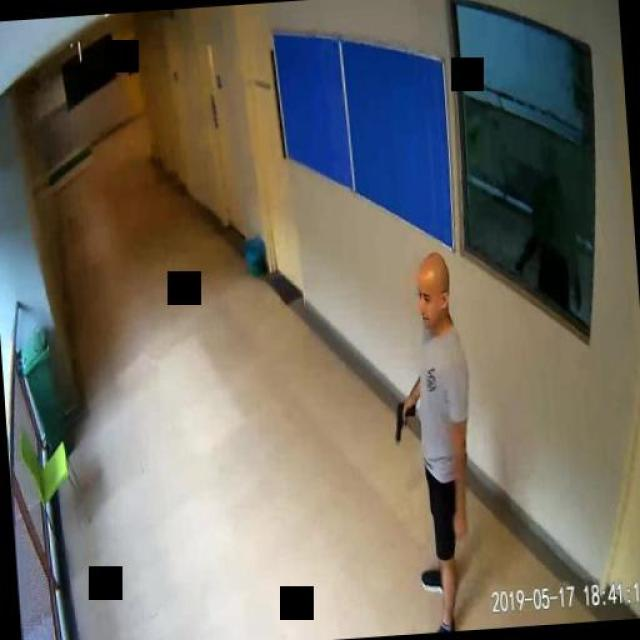gun: (391, 400, 415, 440)
